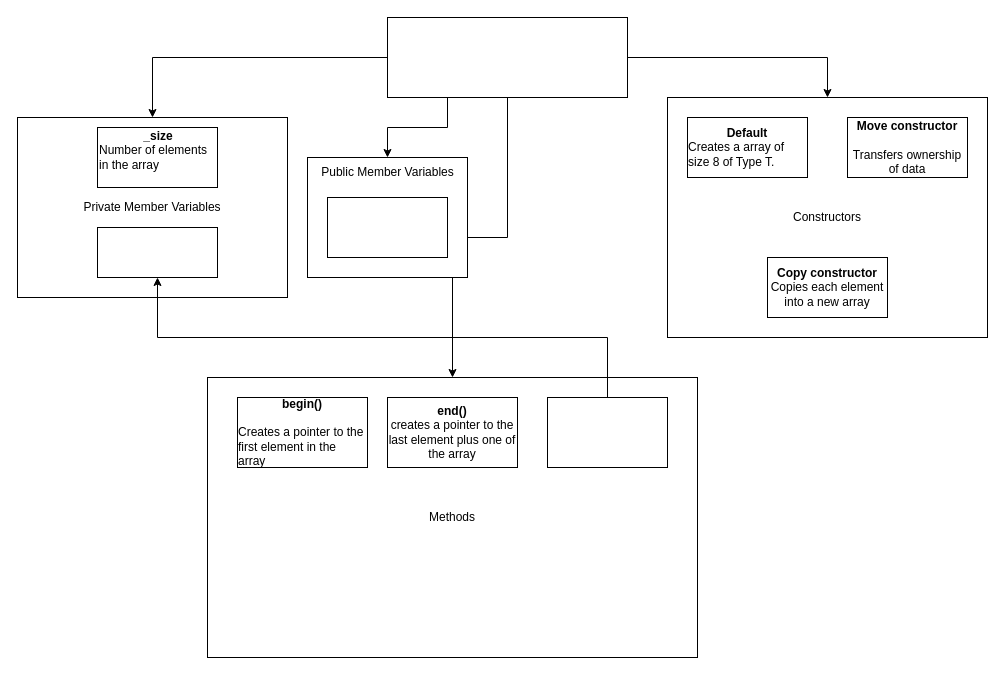
This 1005x675 diagram has some shape labels left out. The shapes that lost their labels are listed below. From the top down, each one's centre as x and y in pixels, then its label:
At (507,57): "FSArray Class".
At (387,227): "Type T Type of the data in the array".
At (157,252): "_data Pointer to data of type T".
At (607,432): "operator[] Accesses _data with checks".
